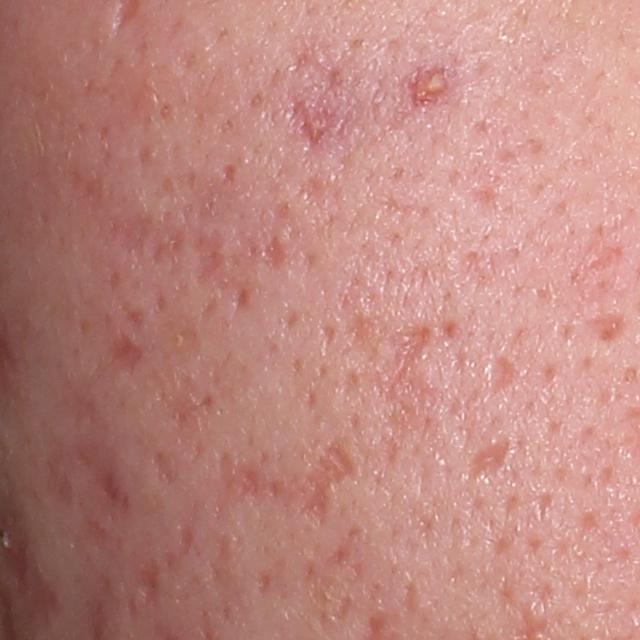atrophic_scar: (368, 321, 442, 466), (302, 525, 369, 629), (288, 438, 362, 531), (108, 200, 188, 276), (4, 537, 56, 632), (209, 451, 277, 522), (181, 198, 227, 283), (465, 431, 515, 486), (582, 306, 627, 354), (483, 351, 522, 404), (109, 330, 145, 378), (150, 446, 181, 490), (135, 562, 161, 606), (264, 234, 289, 272), (319, 323, 341, 363), (101, 467, 121, 507), (178, 520, 195, 557), (220, 158, 242, 186), (402, 581, 419, 614), (256, 567, 275, 596)
papule: (302, 112, 330, 146)
pustule: (409, 68, 446, 104)
